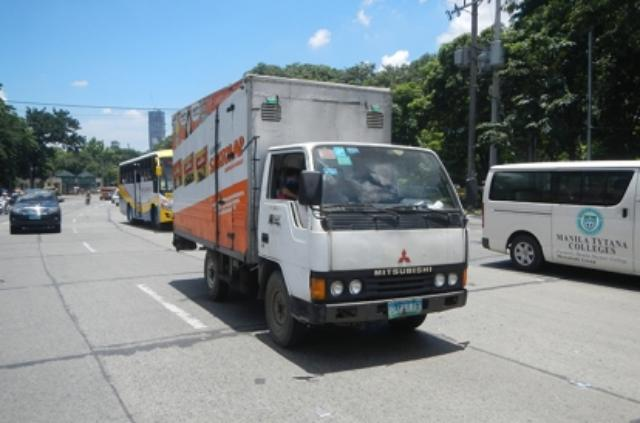bus: (114, 147, 171, 224)
car: (7, 187, 66, 234)
truck: (158, 67, 469, 346)
van: (480, 160, 640, 285)
